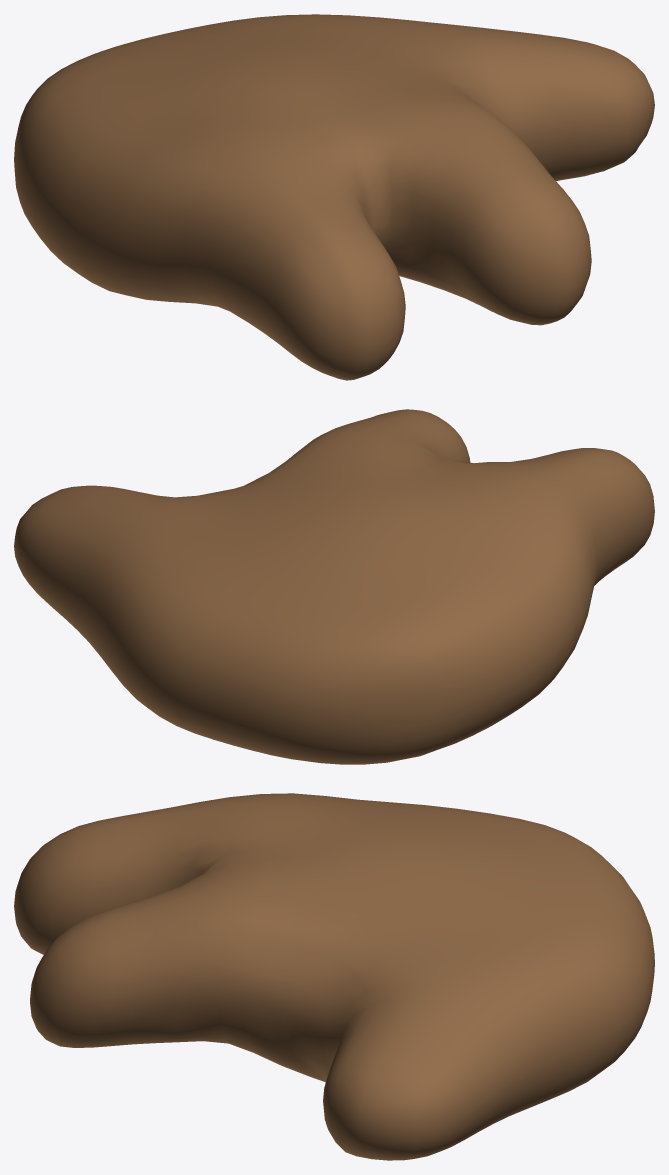
Rendered from right-hand.fbx.
3 views of the same model, one above another, from view 1: azimuth 30°, elevation 25°; view 2: azimuth 150°, elevation 25°; view 3: azimuth 270°, elevation 25° (orthographic). The views are drawn at different scales.
Parts seen in each view (by area): view 1: Right Hand; view 2: Right Hand; view 3: Right Hand.
Part boxes in pixels (<box>): Right Hand: <box>14,14,654,380</box>; Right Hand: <box>14,409,654,764</box>; Right Hand: <box>14,793,654,1160</box>.
Size of the model in its own units: 15.99 by 5.25 by 15.84.
